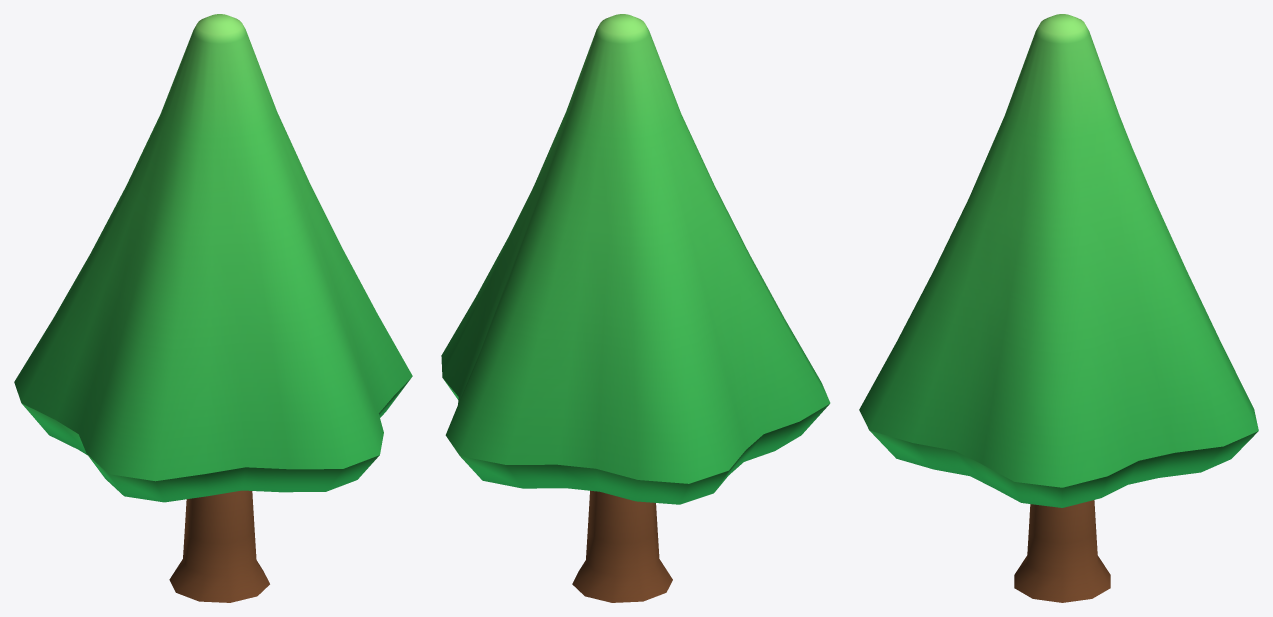
File: pine_cone.glb
3 views of the same model, side by side, from view 1: azimuth 30°, elevation 25°; view 2: azimuth 150°, elevation 25°; view 3: azimuth 270°, elevation 25° (orthographic).
Visible parts, largest first — view 1: pine_cone; view 2: pine_cone; view 3: pine_cone.
Part boxes in pixels (bbox=[...]): pine_cone: bbox=[14, 14, 412, 602]; pine_cone: bbox=[441, 14, 830, 602]; pine_cone: bbox=[859, 14, 1258, 602].
Bounding box in the file's own units: 13.11 × 20.7 × 13.33.
Materials: 1 (1 with a texture image).
